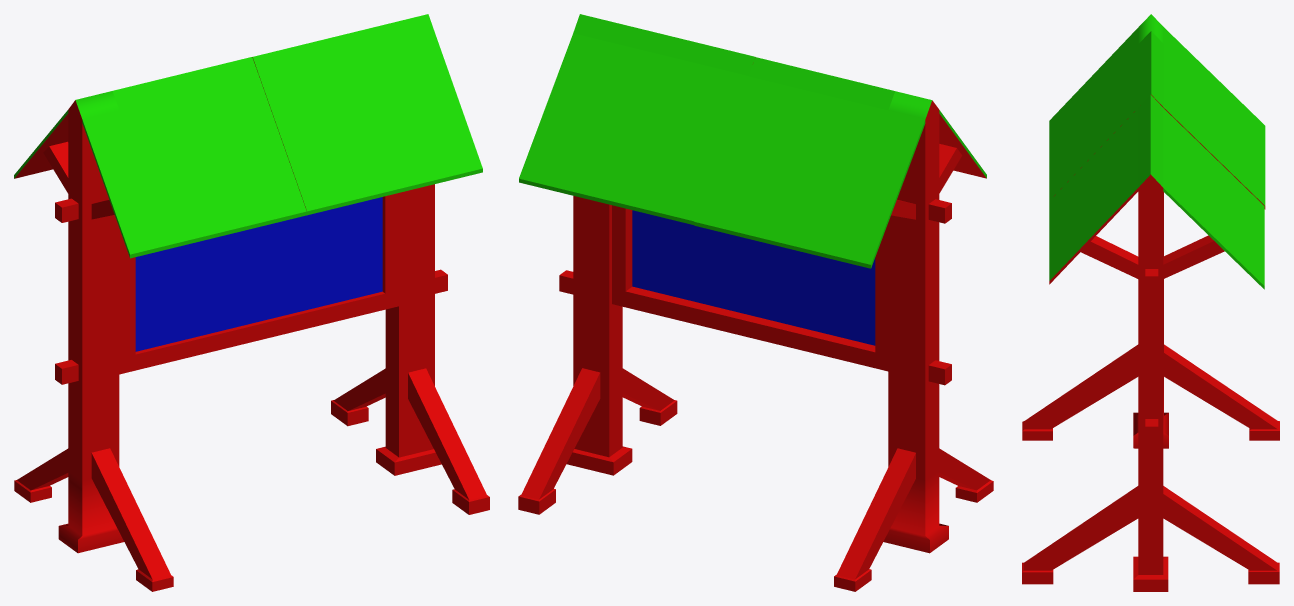
File: Billboard_With_VertexPaint.fbx
The picture shows the model from 3 angles, left to right: view 1: azimuth 30°, elevation 25°; view 2: azimuth 150°, elevation 25°; view 3: azimuth 270°, elevation 25°; orthographic projection. The views are drawn at different scales.
Parts seen in each view (by area): view 1: Billboard; view 2: Billboard; view 3: Billboard.
Part boxes in pixels (left/top/right/bottom): Billboard: left=14, top=14, right=489, bottom=591; Billboard: left=518, top=14, right=993, bottom=591; Billboard: left=1022, top=14, right=1279, bottom=591.
Size of the model in its own units: 208 by 229 by 129.
